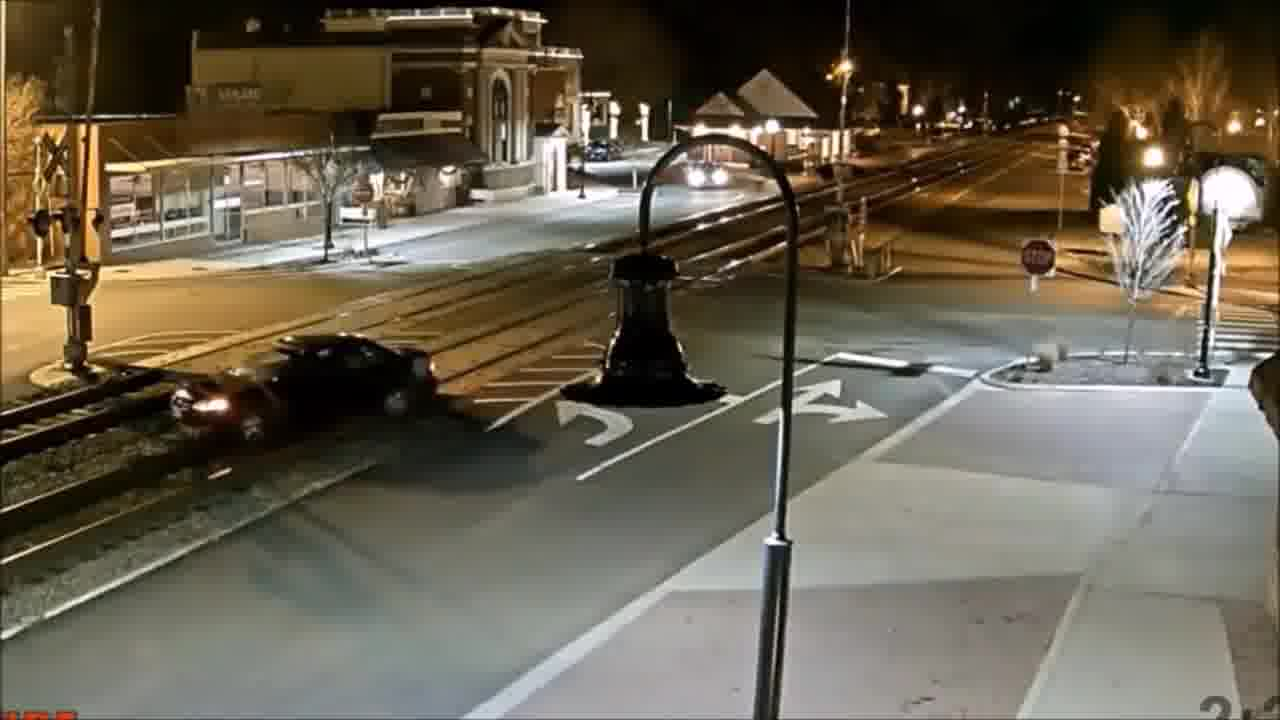crossing railway track: (157, 329, 442, 451)
